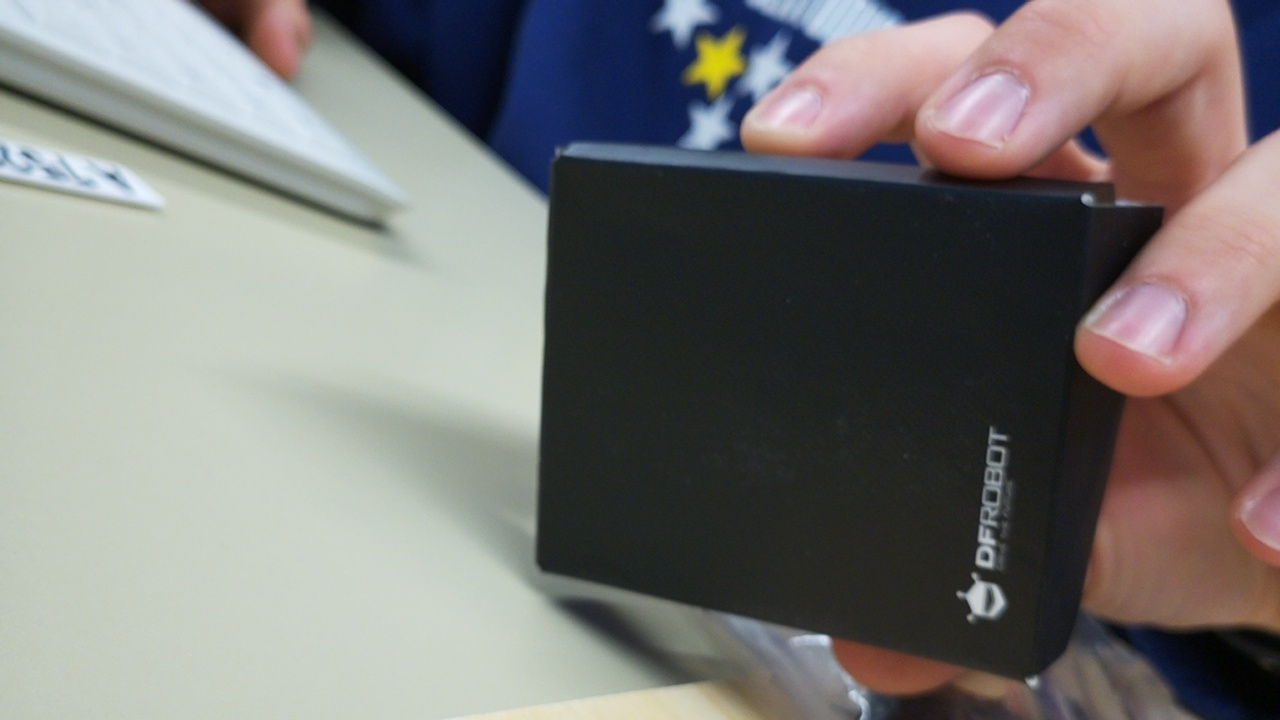license_plate: (0, 137, 164, 221)
